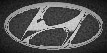Hyundai: (2, 1, 105, 53)
